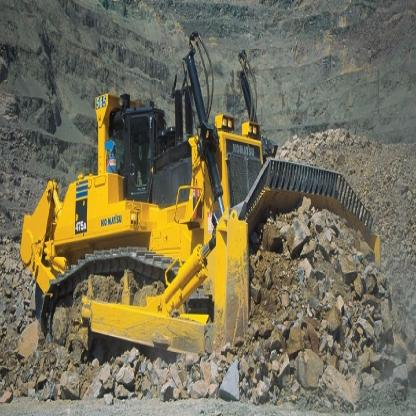bull_dozer/loader/grader: (18, 42, 387, 388)
